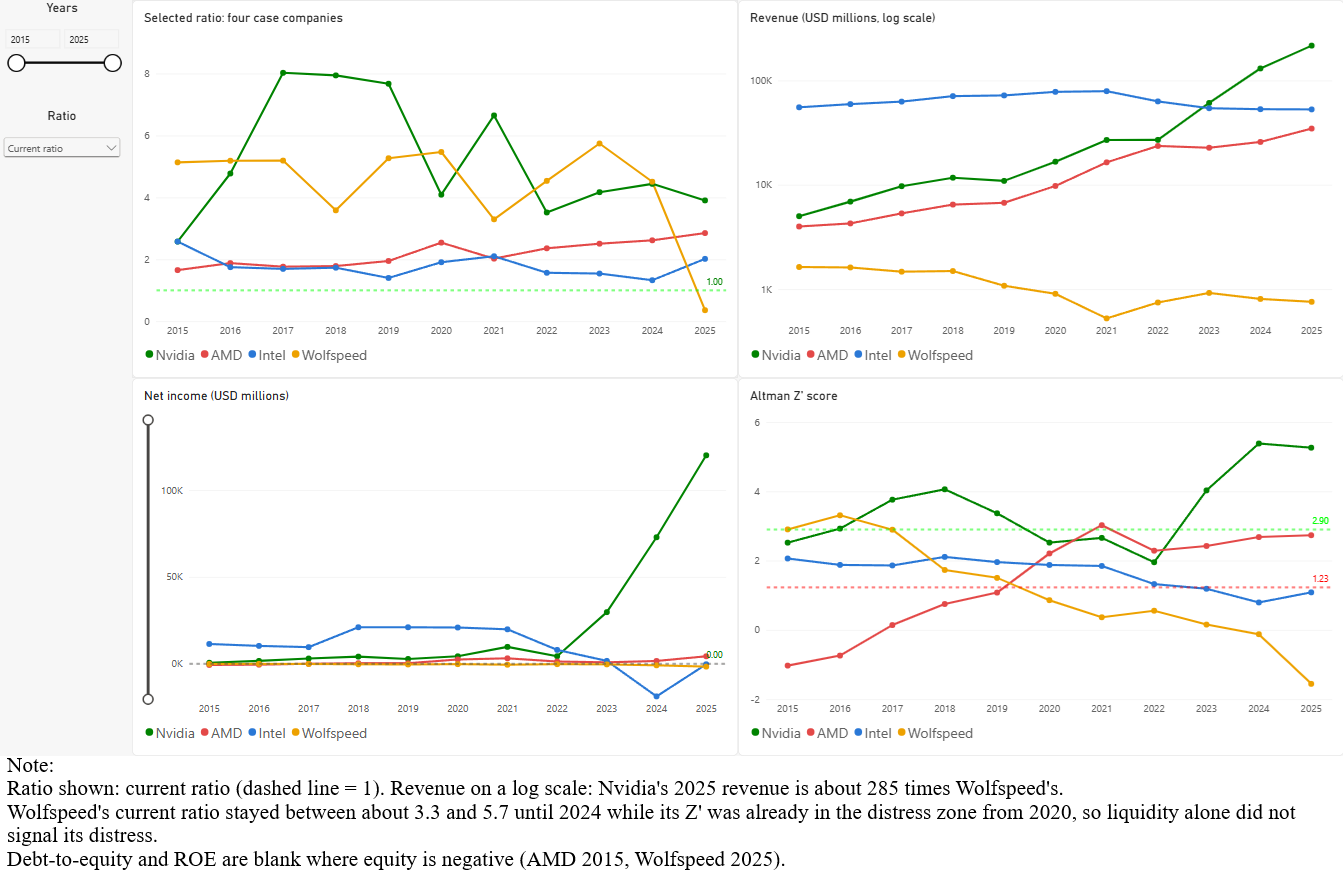

Layout of this report page (visuals, bound fields, positions):
{"tool":"powerbi","page":{"name":"Four-Case Comp","canvas":[1920,1080],"ordinal":2},"visuals":[{"type":"slicer","title":"Years","fields":{"Values":["dim_year.label_year"]},"box":[0,0,177.1,140],"z":0},{"type":"slicer","title":"Ratio","fields":{"Values":["fact_ratios_long.ratio"]},"box":[0,154.3,177.1,130],"z":1000},{"type":"lineChart","title":"Altman Z'' score","fields":{"Category":["dim_year.label_year"],"Series":["dim_company.company"],"Y":["_Measures.Z score"]},"box":[1054.3,540,865.7,540],"z":2000},{"type":"lineChart","title":"Revenue (USD millions, log scale)","fields":{"Category":["dim_year.label_year"],"Series":["dim_company.company"],"Y":["_Measures.Revenue"]},"box":[1054.3,0,865.7,540],"z":3000},{"type":"lineChart","title":"Net income (USD millions)","fields":{"Category":["dim_year.label_year"],"Series":["dim_company.company"],"Y":["_Measures.Net income"]},"box":[188.6,540,865.7,540],"z":4000},{"type":"lineChart","title":"Selected ratio: four case companies","fields":{"Category":["dim_year.label_year"],"Series":["dim_company.company"],"Y":["_Measures.Ratio value"]},"box":[188.6,0,865.7,540],"z":5000}]}

Visuals, with their boxes on the page's 1920x1080 design canvas (x1, y1, x2, y2). These are canvas units, not pixel positions in the 1343x871 screenshot, which may show the page scaled, cropped or inside an application window:
"Years" slicer: box=[0, 0, 177, 140]
"Ratio" slicer: box=[0, 154, 177, 284]
"Altman Z'' score" lineChart: box=[1054, 540, 1920, 1080]
"Revenue (USD millions, log scale)" lineChart: box=[1054, 0, 1920, 540]
"Net income (USD millions)" lineChart: box=[189, 540, 1054, 1080]
"Selected ratio: four case companies" lineChart: box=[189, 0, 1054, 540]
